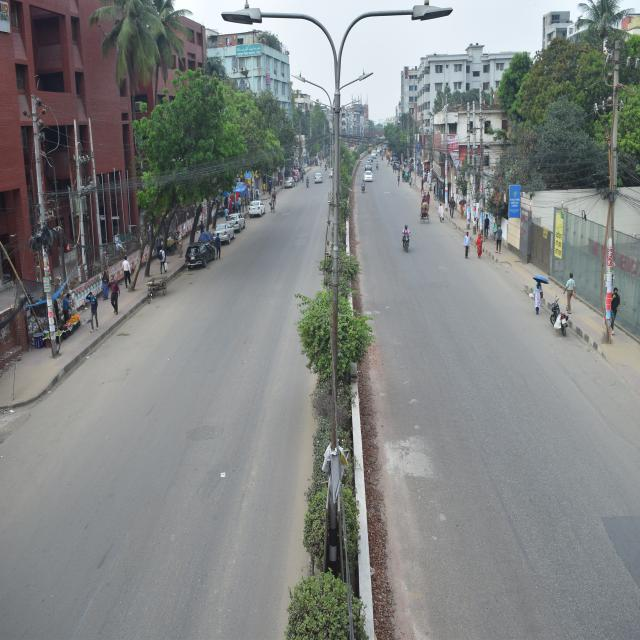car: (213, 225, 233, 245), (250, 198, 268, 219), (312, 169, 326, 190), (229, 210, 241, 232), (284, 173, 294, 192), (362, 172, 379, 179)
motorbike: (397, 225, 416, 255)
